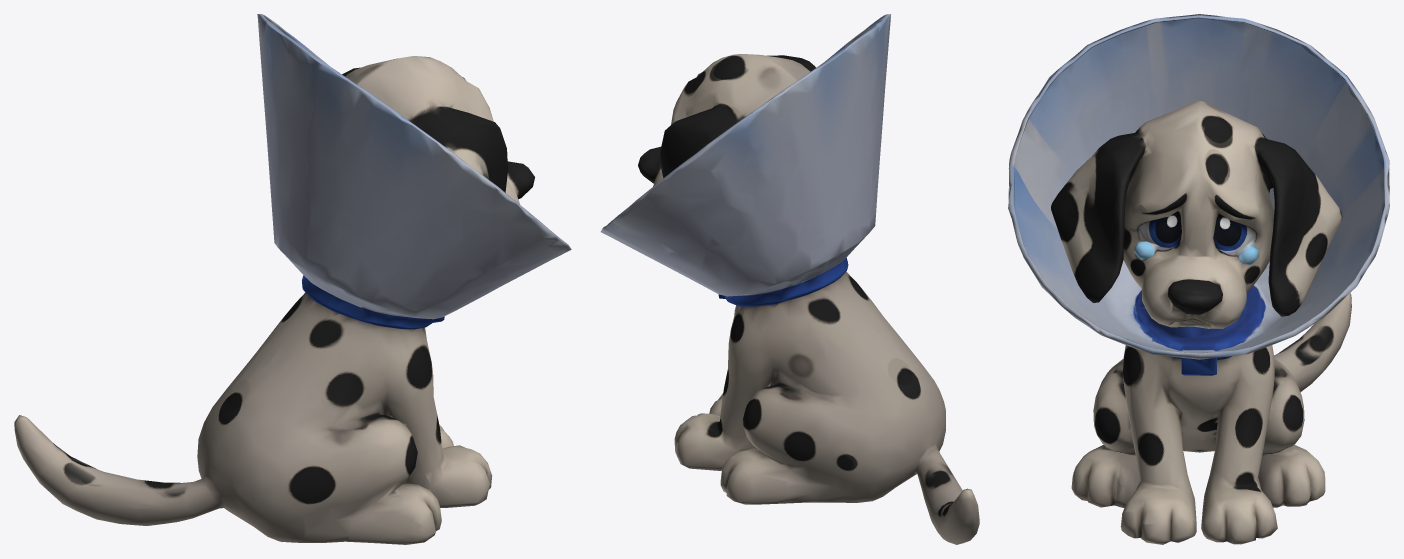
The model's file is dog_dalmatian_coned.glb.
The picture shows the model from 3 angles, left to right: view 1: azimuth 30°, elevation 25°; view 2: azimuth 150°, elevation 25°; view 3: azimuth 270°, elevation 25°; orthographic projection. The views are drawn at different scales.
Visible parts, largest first — view 1: tripo_node_a3f3628c-38e7-4fc0-b2e3-6f5b17af036b; view 2: tripo_node_a3f3628c-38e7-4fc0-b2e3-6f5b17af036b; view 3: tripo_node_a3f3628c-38e7-4fc0-b2e3-6f5b17af036b.
Part boxes in pixels (box(x1,y1,x2,y2)): tripo_node_a3f3628c-38e7-4fc0-b2e3-6f5b17af036b: box(14, 14, 571, 544); tripo_node_a3f3628c-38e7-4fc0-b2e3-6f5b17af036b: box(600, 14, 979, 544); tripo_node_a3f3628c-38e7-4fc0-b2e3-6f5b17af036b: box(1008, 14, 1389, 544).
Size of the model in its own units: 0.9846 by 1 by 0.7652.
Materials: 1 (1 with a texture image).
